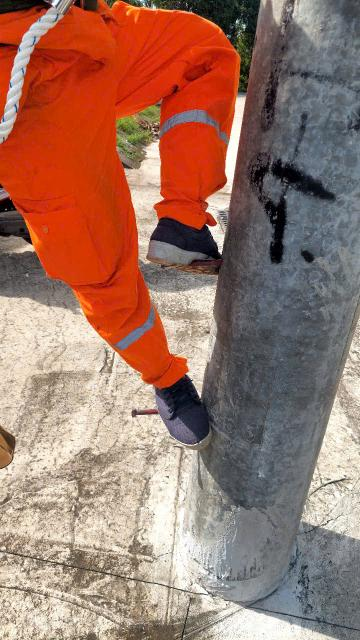shoes: (146, 201, 226, 279), (151, 362, 218, 453)
